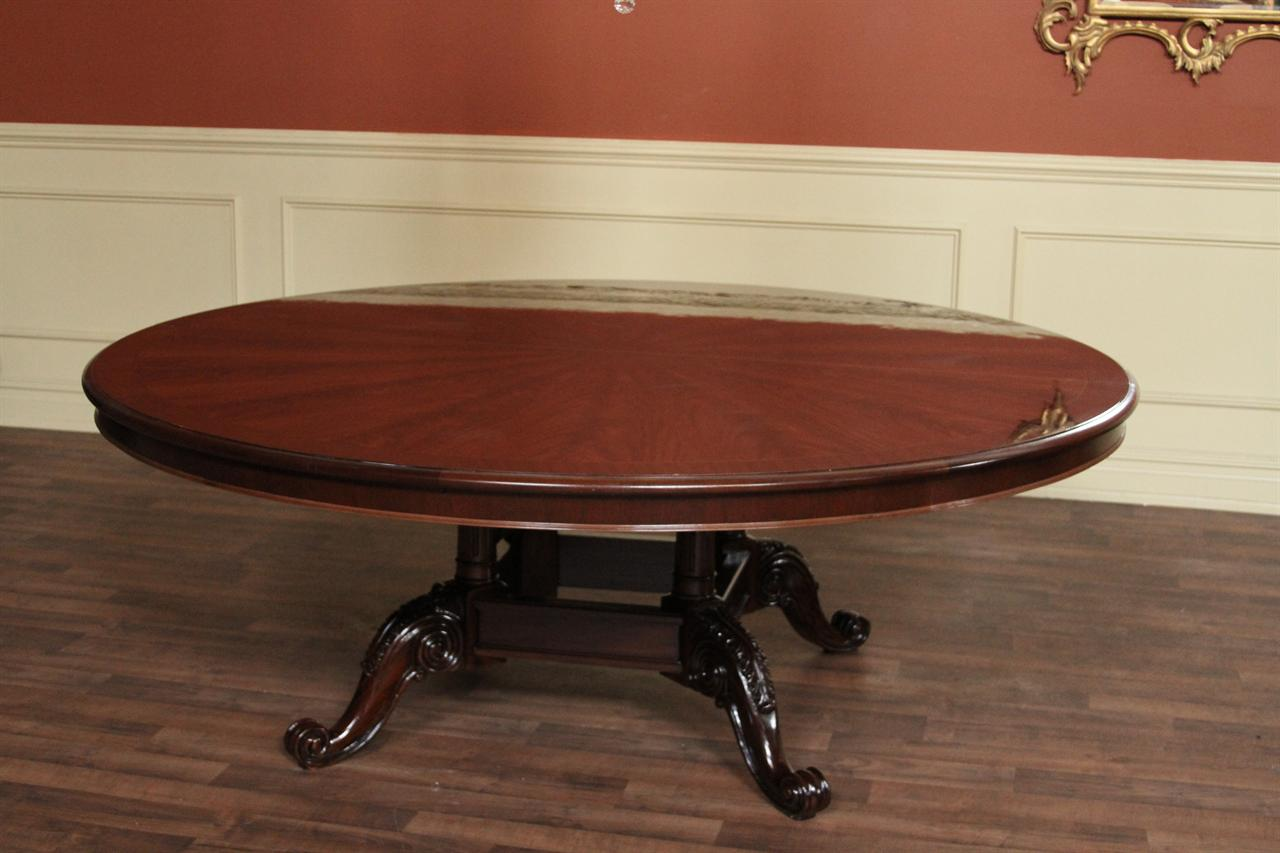Carving Table: (38, 246, 1143, 825)
